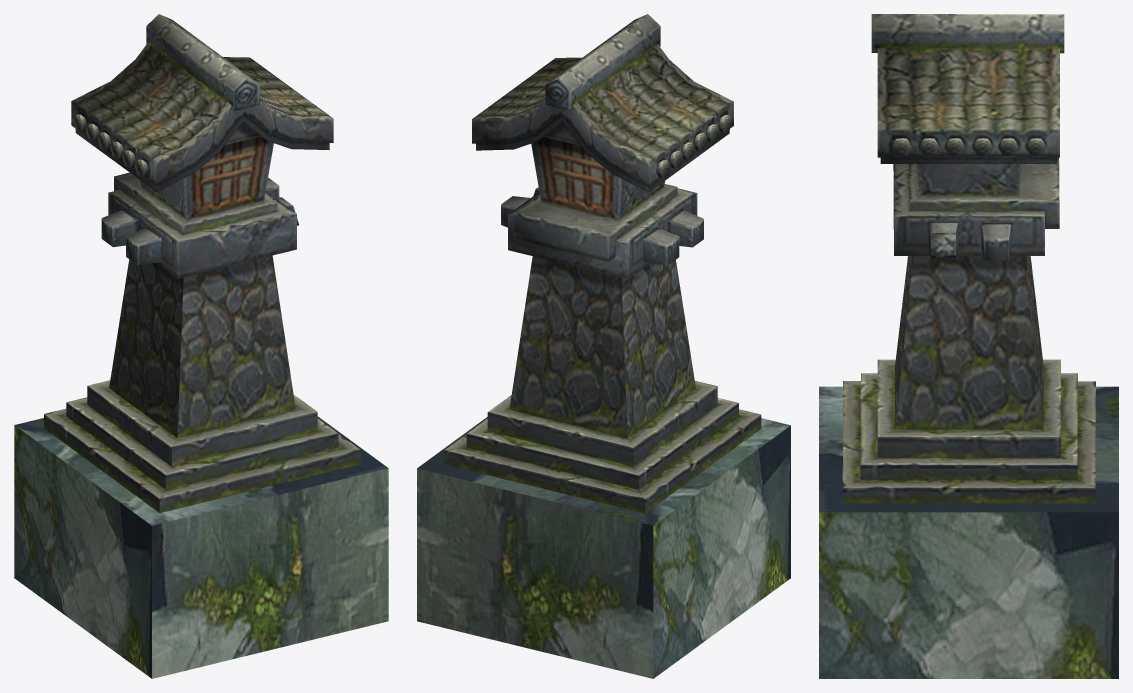
The model's file is Map01_XiaoDengZuo_Grp.FBX.
3 renders of one model, left to right at view 1: azimuth 30°, elevation 25°; view 2: azimuth 150°, elevation 25°; view 3: azimuth 270°, elevation 25°, orthographic. The views are drawn at different scales.
Visible parts, largest first — view 1: Map01_XiaoDengZuo_Grp; view 2: Map01_XiaoDengZuo_Grp; view 3: Map01_XiaoDengZuo_Grp.
Part boxes in pixels (x1,y1,x2,y2): Map01_XiaoDengZuo_Grp: (14,14,388,678); Map01_XiaoDengZuo_Grp: (417,14,790,678); Map01_XiaoDengZuo_Grp: (819,14,1118,678).
Size of the model in its own units: 167 by 372 by 168.
